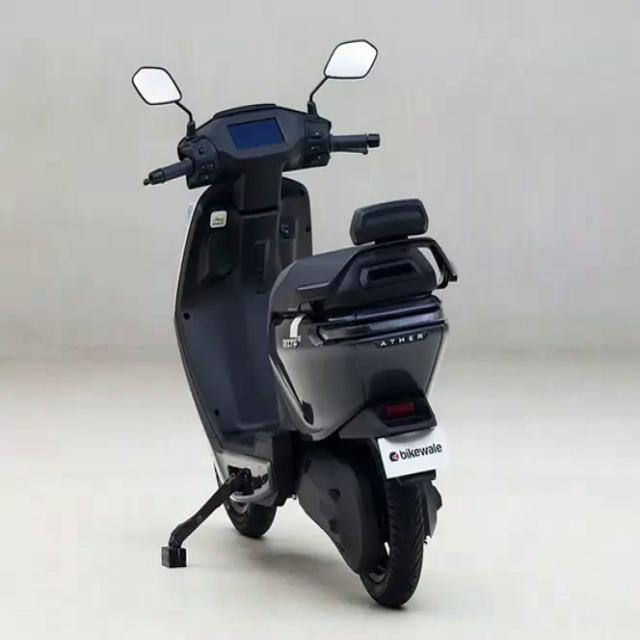objects: (105, 39, 464, 626)
